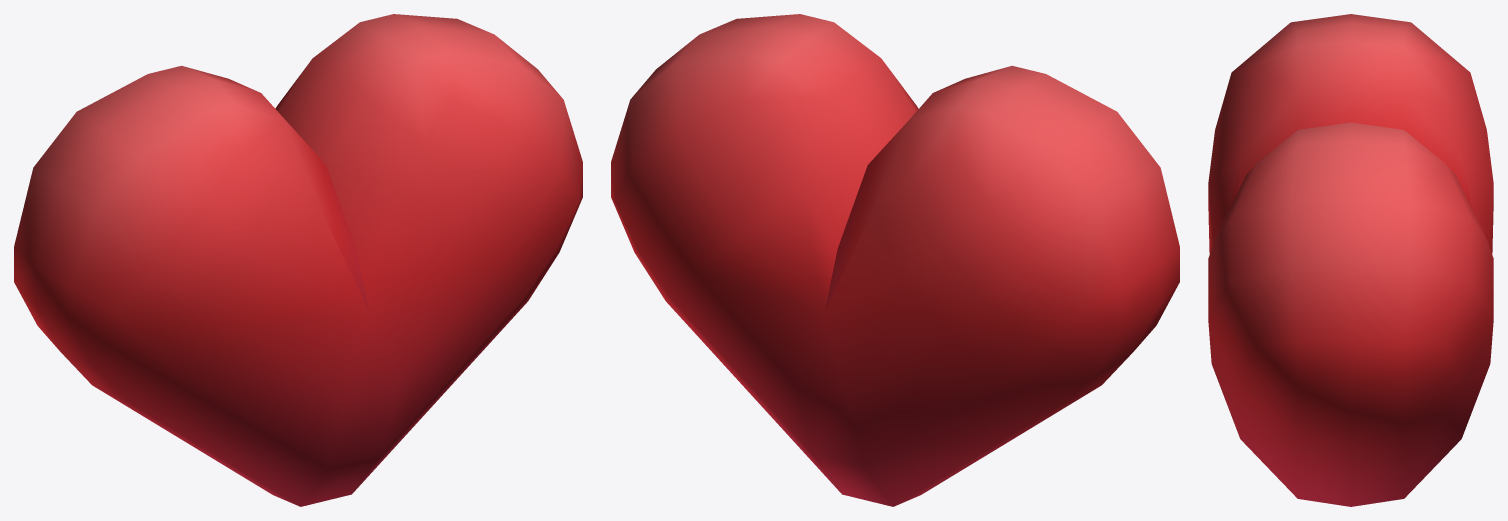
File: coeur-rouge.glb
3 views of the same model, side by side, from view 1: azimuth 30°, elevation 25°; view 2: azimuth 150°, elevation 25°; view 3: azimuth 270°, elevation 25° (orthographic). The views are drawn at different scales.
Visible parts, largest first — view 1: heart_red; view 2: heart_red; view 3: heart_red.
Boxes of the visible parts, bbox=[...] form: heart_red: bbox=[14, 14, 582, 506]; heart_red: bbox=[611, 14, 1179, 506]; heart_red: bbox=[1208, 14, 1493, 506].
Bounding box in the file's own units: 1.08 × 0.8466 × 0.5305.
Materials: 1 (1 with a texture image).
